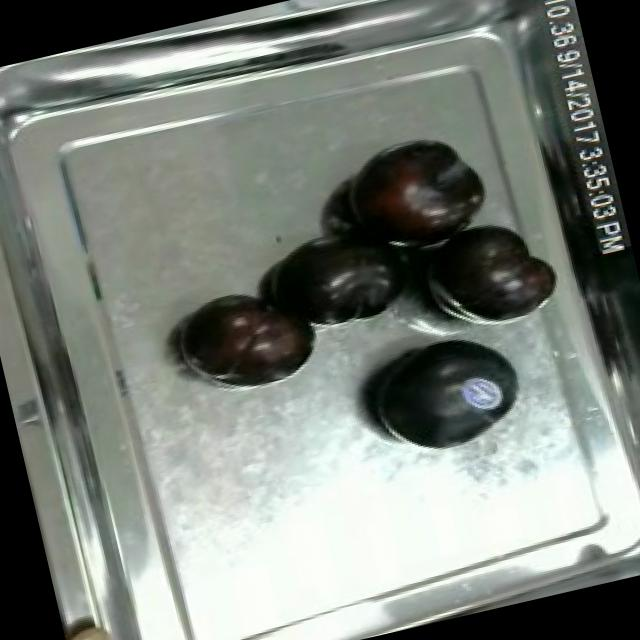Fruit: (348, 314, 538, 472), (328, 122, 498, 268), (250, 206, 420, 341), (418, 200, 570, 338), (172, 274, 332, 398), (61, 610, 140, 640)
